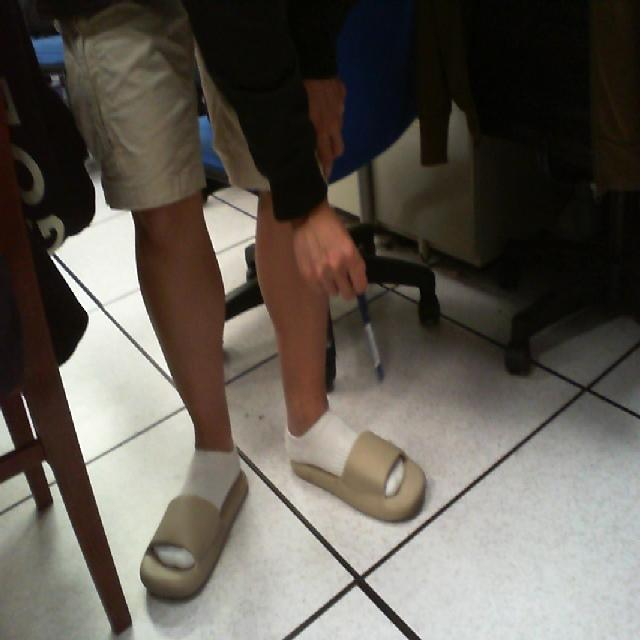Pen: (336, 254, 404, 396)
